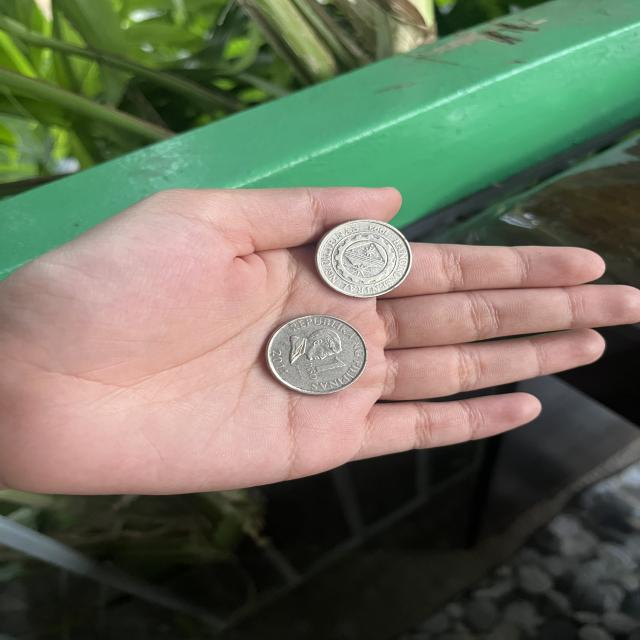1_Old_Back: (327, 224, 401, 292)
1_Old_Front: (271, 318, 356, 393)
